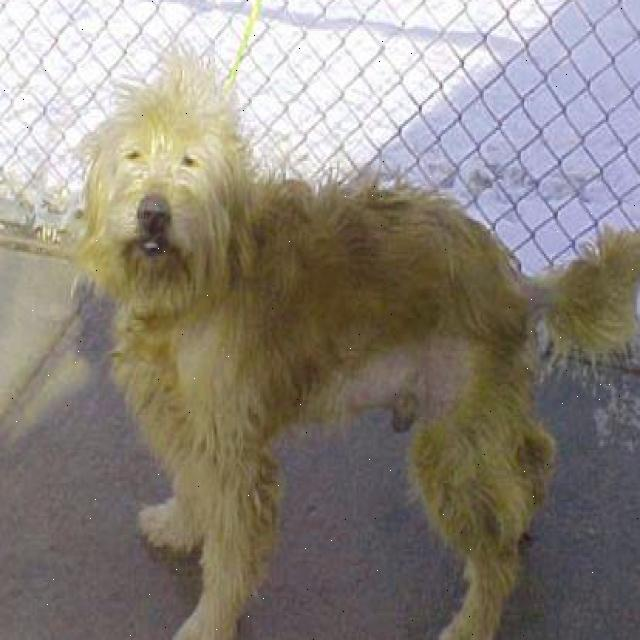Dog: (73, 70, 244, 328)
